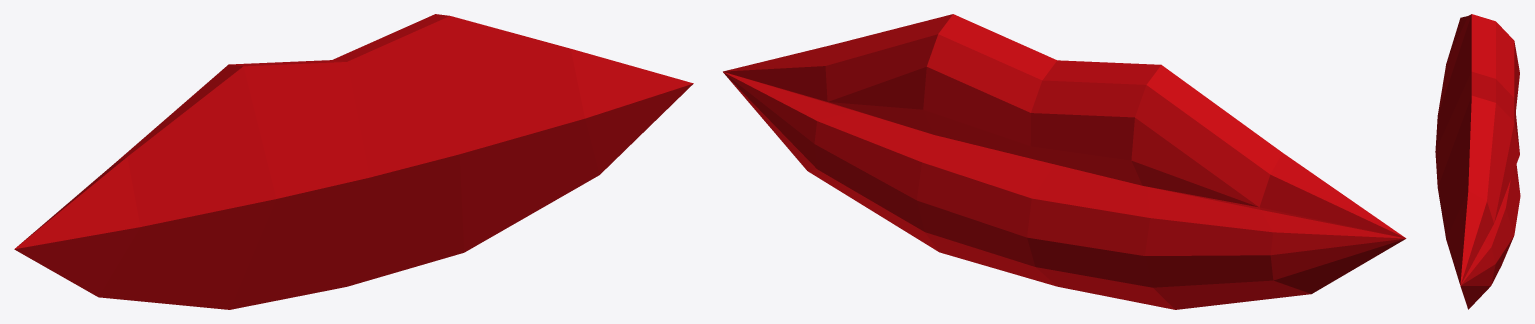
Rendered from Lip_Prototype.fbx.
3 renders of one model, left to right at view 1: azimuth 30°, elevation 25°; view 2: azimuth 150°, elevation 25°; view 3: azimuth 270°, elevation 25°, orthographic. The views are drawn at different scales.
Parts seen in each view (by area): view 1: 큐브; view 2: 큐브; view 3: 큐브.
Boxes of the visible parts, x1,y1,x2,y2 form: 큐브: (14, 14, 693, 309); 큐브: (723, 14, 1406, 309); 큐브: (1435, 14, 1520, 309).
Size of the model in its own units: 648 by 224 by 87.02.
